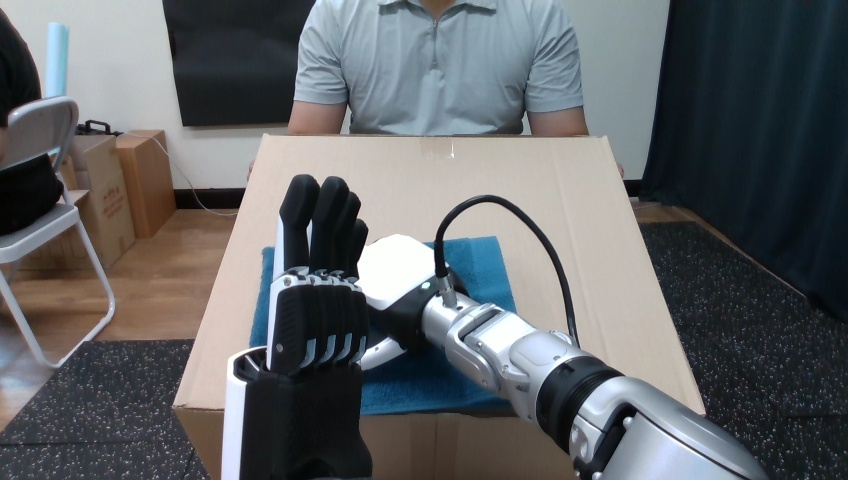left robot hand: (222, 174, 765, 479), (443, 202, 569, 334)
